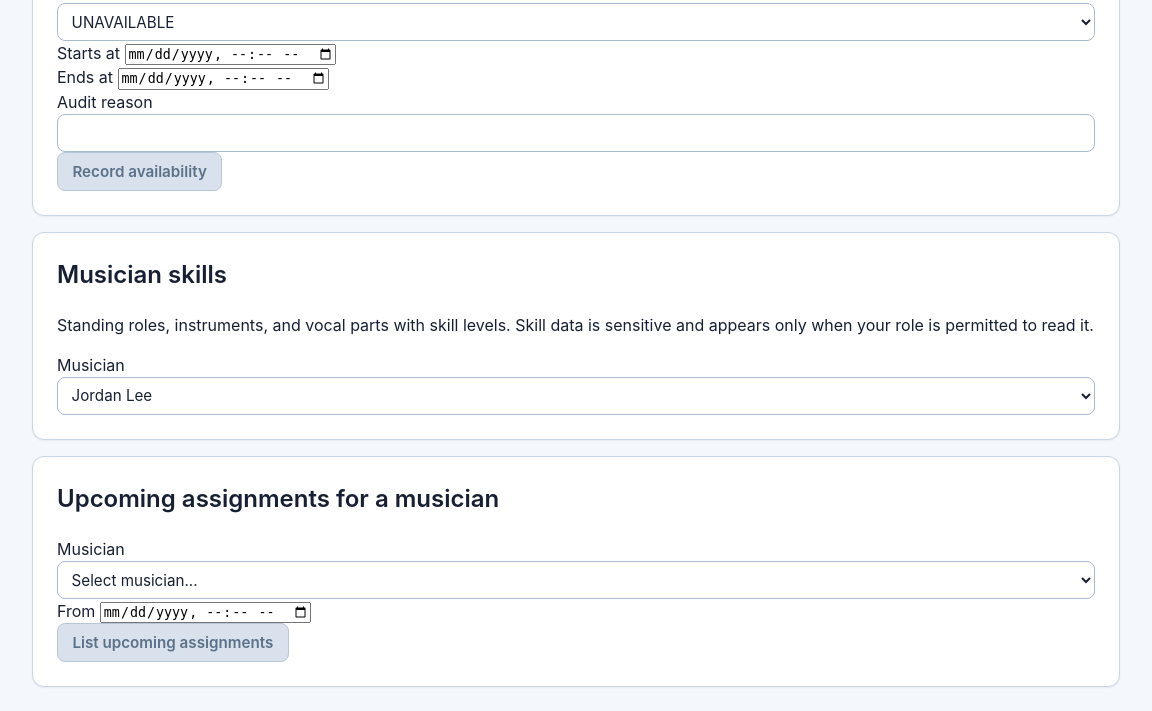
Musicians directory › loads and renders skill assignments for the selected musician
(page scrolled)
Select "Jordan Lee" in the dropdown with id "skills-musician". click: (576, 396)
box: [57,376,1095,415]
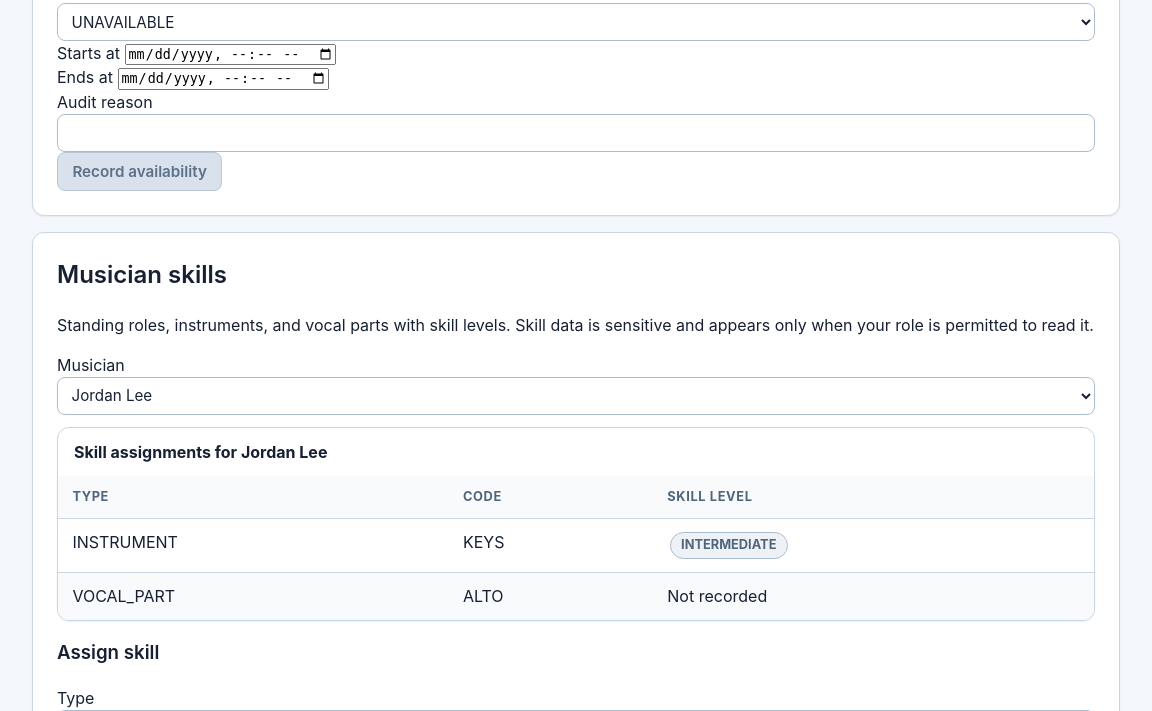
Expected: the text "KEYS" is shown, [449,518,653,573]
Expected: the text "INTERMEDIATE" is shown, [670,532,788,559]
Expected: the text "ALTO" is shown, [449,573,653,620]
